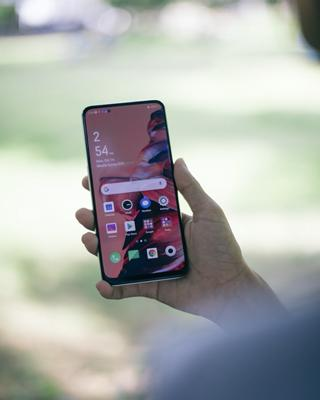Mobile Phone: (80, 98, 189, 287)
